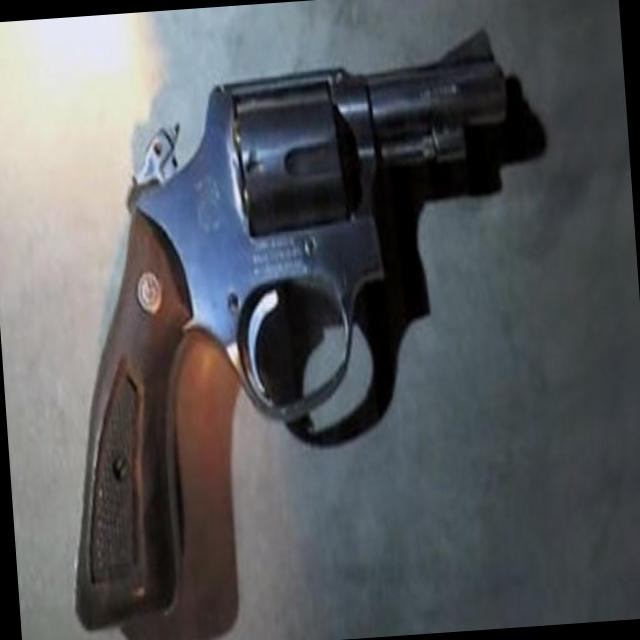handgun: (31, 16, 546, 623)
